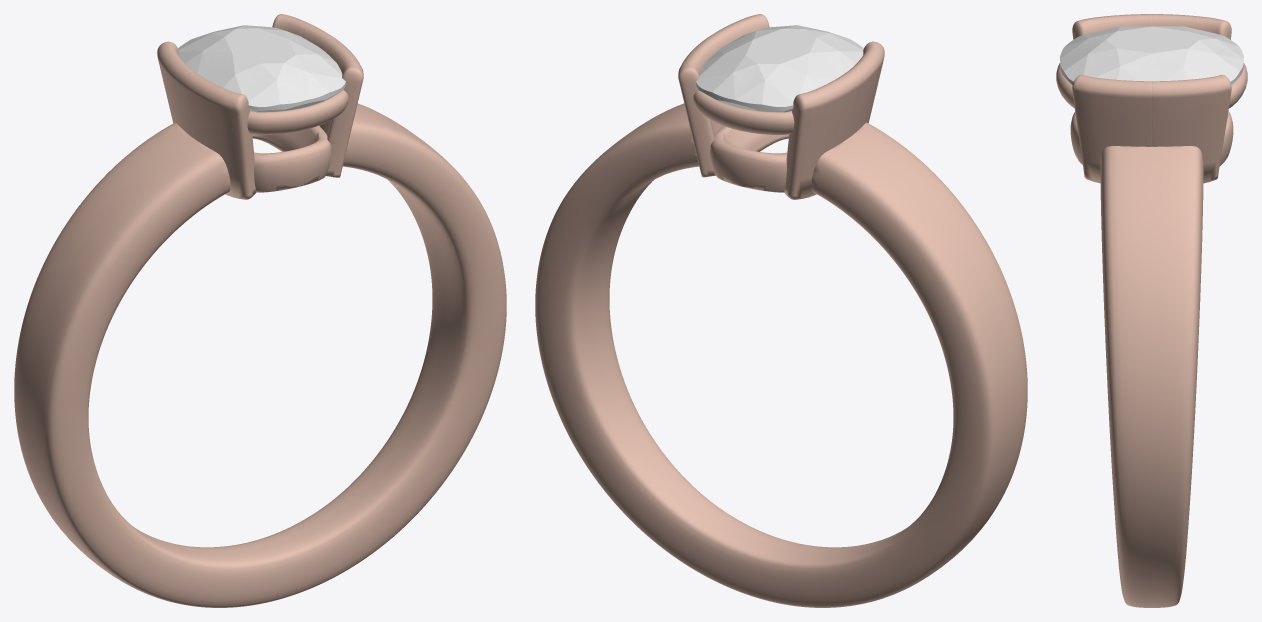
The model's file is diamond-cushion-rosegold-halfmoonbezel-straighttaperedband-nosidestones.glb.
The picture shows the model from 3 angles, left to right: view 1: azimuth 30°, elevation 25°; view 2: azimuth 150°, elevation 25°; view 3: azimuth 270°, elevation 25°; orthographic projection.
Visible parts, largest first — view 1: metal.003, stone; view 2: metal.003, stone; view 3: metal.003, stone.
Part boxes in pixels (box(x1,y1,x2,y2)): metal.003: box(14, 14, 506, 607); stone: box(178, 25, 345, 112); metal.003: box(535, 14, 1027, 607); stone: box(696, 25, 863, 112); metal.003: box(1056, 14, 1247, 607); stone: box(1060, 26, 1243, 84).
Bounding box in the file's own units: 20.51 × 23.24 × 7.42.
